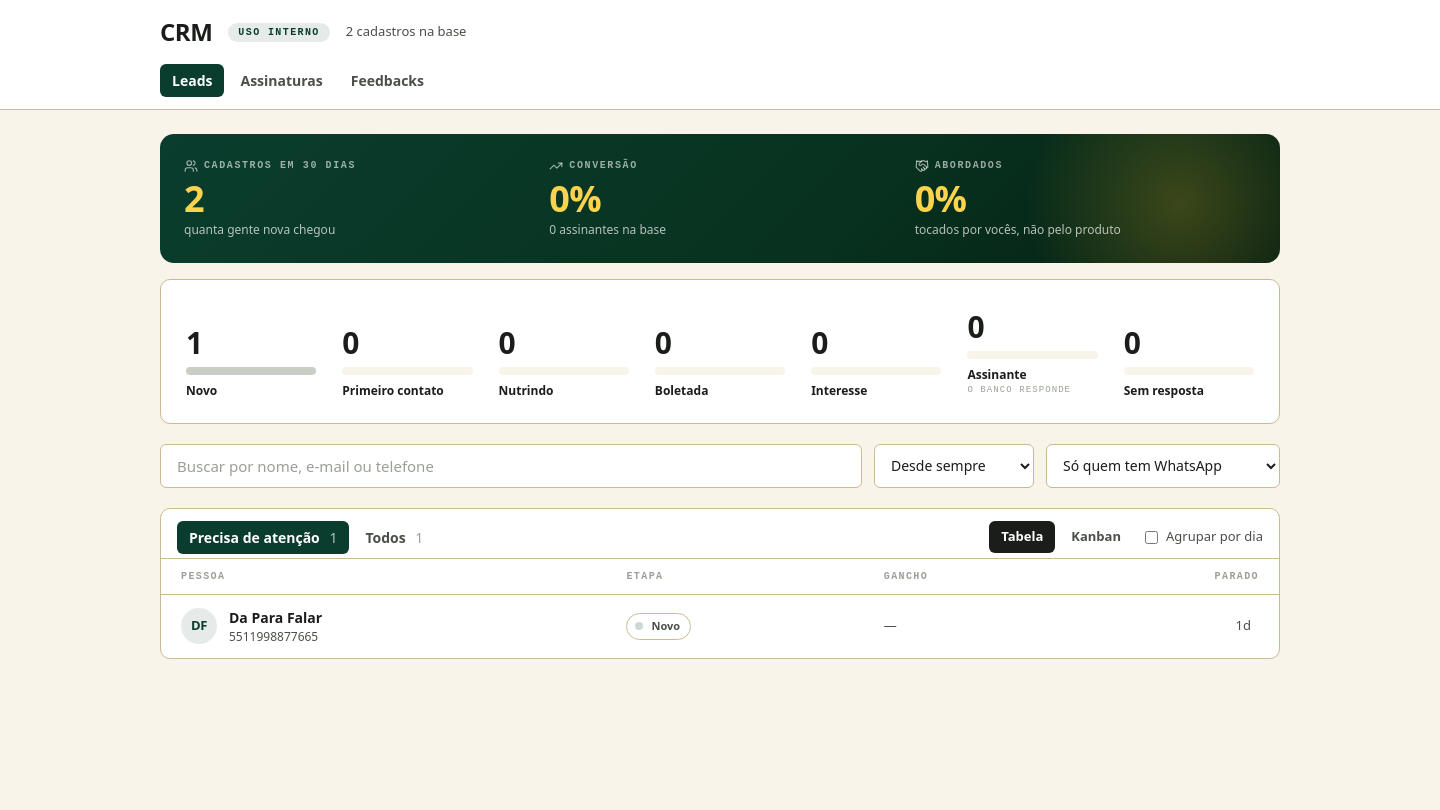
it: PainelCrm · buscar passa por cima do filtro de WhatsApp › acha por e-mail quem o filtro estava escondendo
Expected: the text "Sem Numero" is not shown
Type "semnumero@exemplo.com" into the search field named "Buscar cadastro" at (511, 466), box x1=160 y1=444 x2=862 y2=488
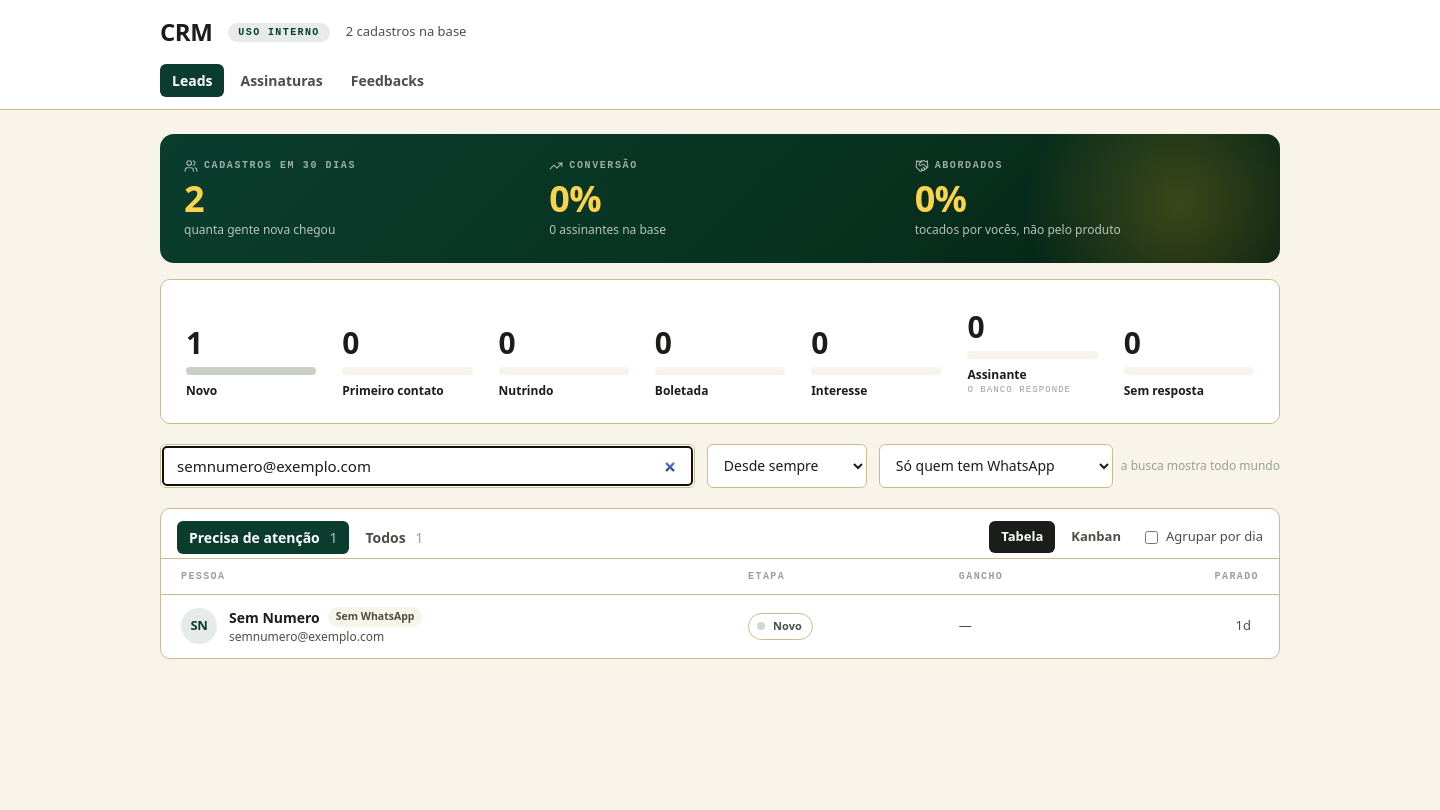
Result: the link "Sem Numero" is shown at x1=229 y1=606 x2=320 y2=628
